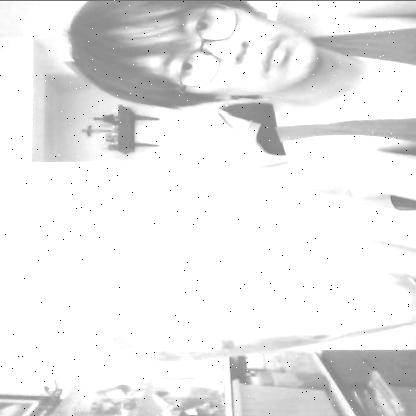Plastic Bottle: (2, 232, 416, 366)
